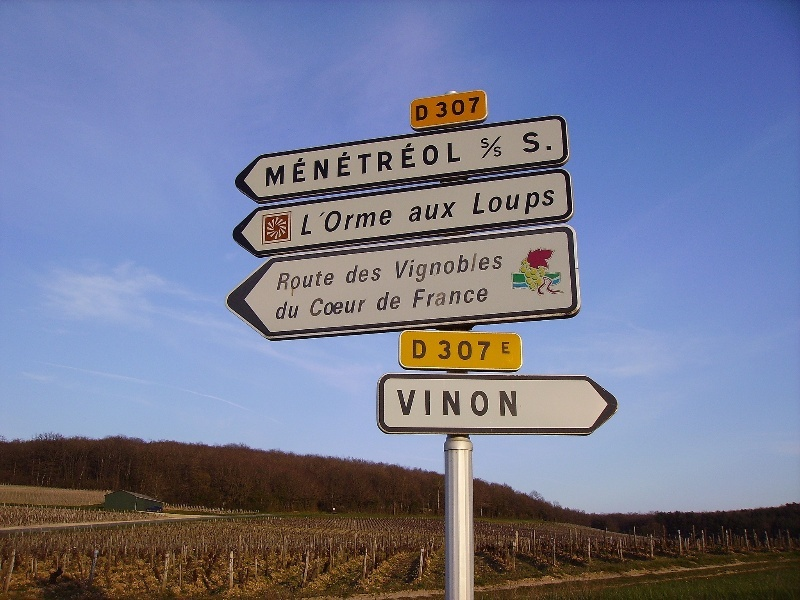text: (273, 136, 288, 189), (289, 136, 304, 189), (305, 136, 320, 189), (321, 136, 336, 189), (337, 136, 352, 189), (353, 136, 368, 189), (369, 136, 384, 189), (385, 136, 400, 189), (401, 136, 416, 189), (417, 136, 432, 189), (433, 136, 448, 189), (449, 136, 461, 189), (481, 183, 496, 222), (497, 183, 512, 222), (513, 183, 528, 222), (529, 183, 544, 222), (497, 129, 513, 165), (481, 129, 496, 165), (401, 249, 416, 285), (417, 249, 432, 285), (433, 249, 448, 285), (449, 249, 464, 285), (465, 249, 480, 285), (481, 249, 496, 285), (305, 203, 320, 236), (321, 203, 336, 236), (337, 203, 352, 236), (353, 203, 368, 236), (369, 203, 384, 236), (545, 183, 557, 222), (401, 388, 416, 417), (417, 388, 432, 417), (433, 388, 448, 417), (449, 388, 464, 417), (465, 388, 480, 417), (481, 388, 496, 417), (497, 388, 512, 417), (529, 127, 542, 158), (465, 96, 481, 120), (265, 136, 272, 189), (449, 96, 464, 120), (289, 268, 304, 292), (305, 268, 320, 292), (321, 268, 336, 292), (385, 290, 400, 314), (417, 201, 432, 224), (433, 201, 448, 224), (449, 340, 464, 363), (465, 340, 480, 363), (321, 298, 336, 320), (337, 298, 352, 320), (353, 298, 368, 320), (417, 288, 432, 310), (433, 288, 448, 310), (449, 288, 464, 310), (465, 288, 480, 310), (435, 96, 448, 120), (518, 127, 528, 158), (353, 264, 368, 284), (369, 264, 384, 284), (472, 129, 480, 165), (497, 249, 505, 285), (417, 104, 432, 122), (385, 203, 393, 236), (417, 338, 428, 361), (437, 340, 448, 363), (481, 340, 492, 363), (276, 300, 288, 320), (289, 300, 300, 320), (310, 298, 320, 320), (449, 201, 458, 224), (475, 183, 480, 222), (280, 268, 288, 292), (376, 290, 384, 314), (395, 249, 400, 285), (481, 288, 489, 310), (502, 342, 512, 355), (396, 388, 400, 417), (513, 388, 517, 417), (411, 201, 416, 224), (545, 143, 554, 154), (348, 264, 352, 284), (401, 290, 404, 314), (413, 338, 416, 361), (414, 288, 416, 310), (543, 143, 544, 154)
